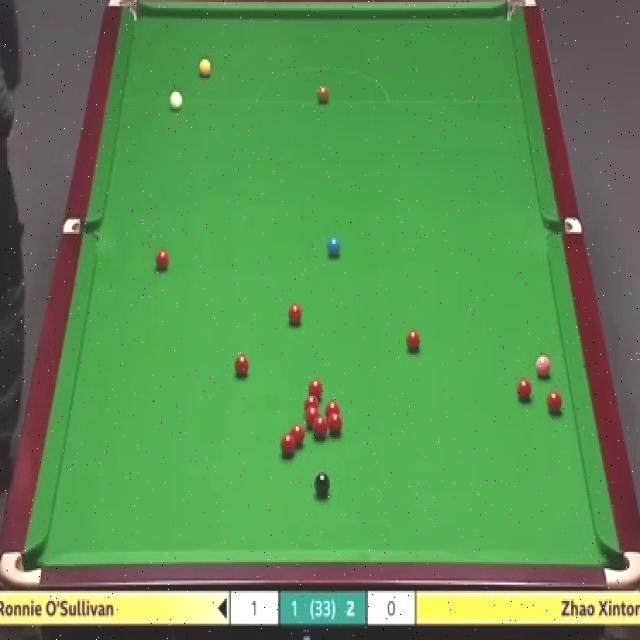black-ball: (313, 472, 331, 494)
blue-ball: (326, 236, 343, 258)
brown-ball: (316, 84, 329, 104)
pink-ball: (534, 354, 553, 378)
red-ball: (517, 375, 532, 402), (287, 302, 303, 327), (546, 389, 562, 414), (290, 423, 305, 448), (405, 328, 421, 351), (329, 411, 343, 436), (282, 432, 296, 457), (234, 353, 249, 375), (308, 378, 322, 400), (314, 416, 328, 438), (155, 250, 169, 272), (303, 395, 319, 413), (306, 407, 319, 428), (325, 399, 341, 415)
white-ball: (168, 90, 184, 113)
yellow-ball: (198, 58, 211, 80)
